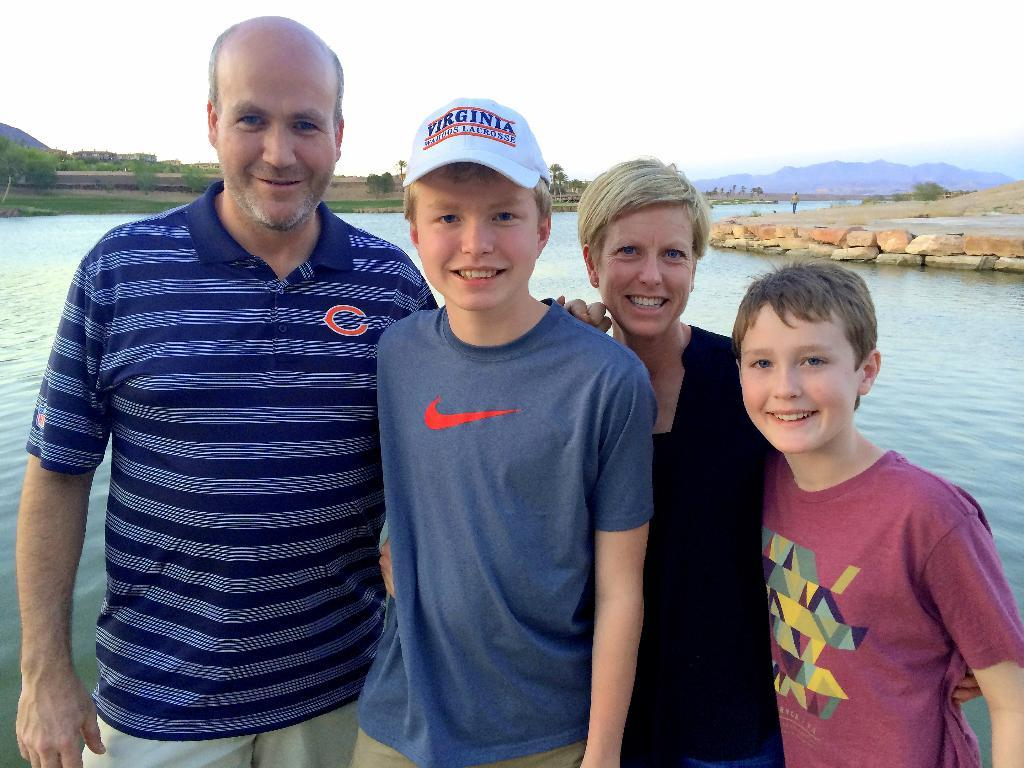Hat: (400, 96, 550, 188)
